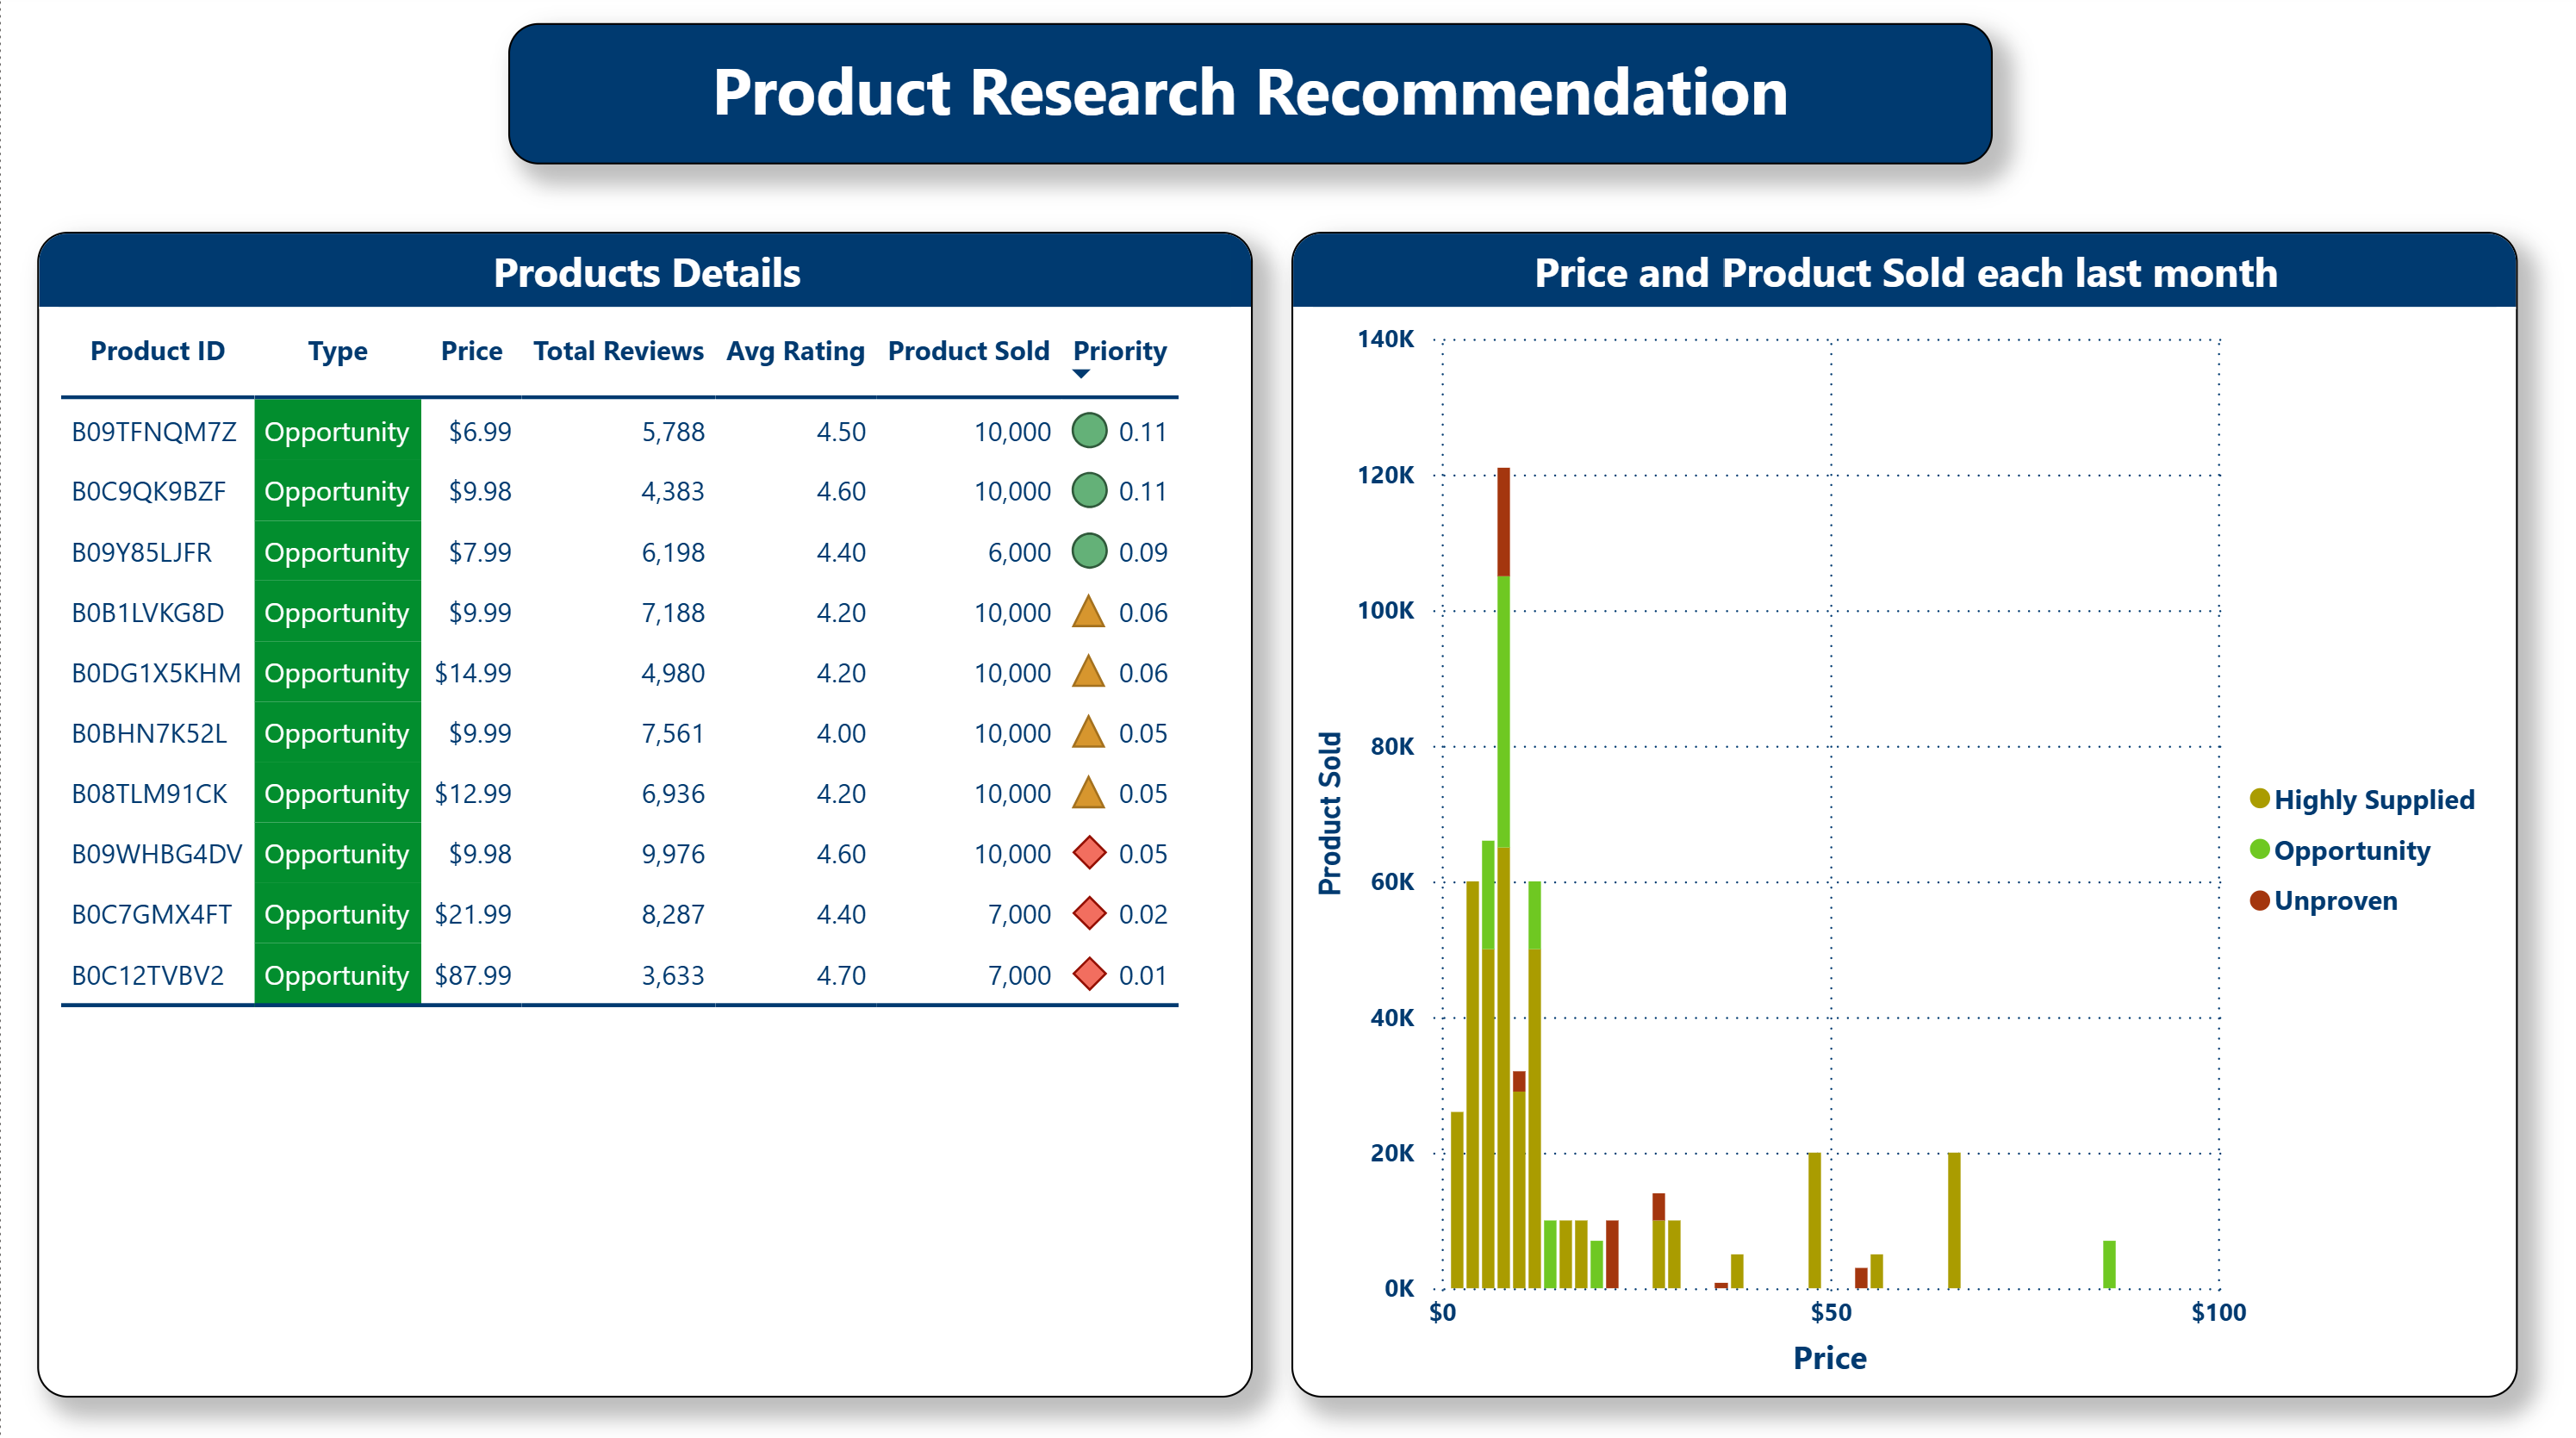

What the dashboard file says about the page in this screenshot:
{"tool":"powerbi","page":{"name":"Details","canvas":[1280,720],"ordinal":1},"visuals":[{"type":"tableEx","title":"Products Details","fields":{"Values":["MART_AMAZON__PRODUCT_ANALYSIS.ASIN","MART_AMAZON__PRODUCT_ANALYSIS.Product_Status","MART_AMAZON__PRODUCT_ANALYSIS.PRODUCT_PRICE","MART_AMAZON__PRODUCT_ANALYSIS.NUM_RATING","MART_AMAZON__PRODUCT_ANALYSIS.PRODUCT_STAR_RATING","Sum(MART_AMAZON__PRODUCT_ANALYSIS.SALES_VOLUME)","Sum(MART_AMAZON__PRODUCT_ANALYSIS.Quality_Score)"]},"box":[18.1,119.8,604,579.3],"z":0},{"type":"columnChart","title":"Price and Product Sold each last month","fields":{"Y":["Sum(MART_AMAZON__PRODUCT_ANALYSIS.SALES_VOLUME)"],"Category":["MART_AMAZON__PRODUCT_ANALYSIS.PRODUCT_PRICE (bins)"],"Series":["MART_AMAZON__PRODUCT_ANALYSIS.Product_Status"]},"box":[641.1,119.8,608.8,579.3],"z":1000},{"type":"textbox","title":"Page 1 Tittle","box":[252.1,16.2,737.2,70.4],"z":2000}]}

Visuals, with their boxes in screenshot pixels (x1, y1, x2, y2), scaled from the page's 1280x720 canvas onto the 2576x1438 screenshot:
"Products Details" tableEx: [36, 240, 1252, 1397]
"Price and Product Sold each last month" columnChart: [1291, 240, 2516, 1397]
"Page 1 Tittle" textbox: [507, 33, 1991, 173]
